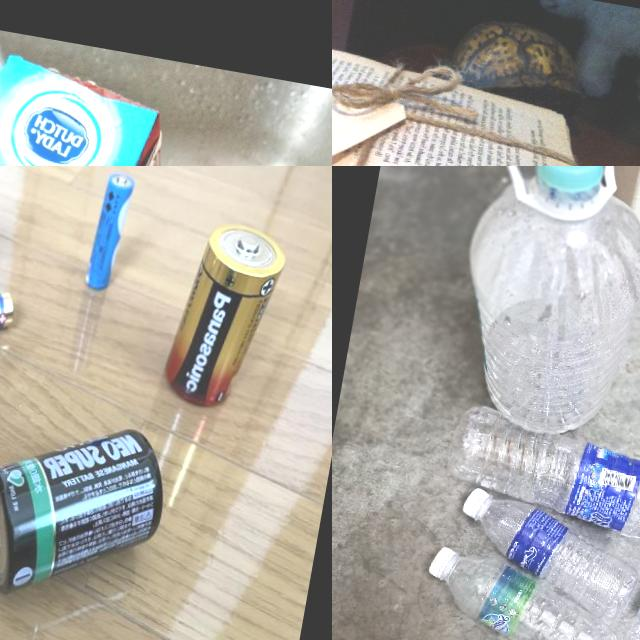bateria: (0, 403, 180, 625), (158, 211, 288, 415), (78, 167, 140, 293)
caixinha: (0, 26, 171, 166)
garrafa plástica: (436, 172, 640, 444), (436, 398, 640, 539), (462, 496, 640, 619), (427, 548, 605, 640), (586, 535, 640, 640)
papel: (332, 6, 629, 166)
tampa plástica: (526, 166, 610, 202), (452, 480, 487, 519), (424, 542, 454, 578)
